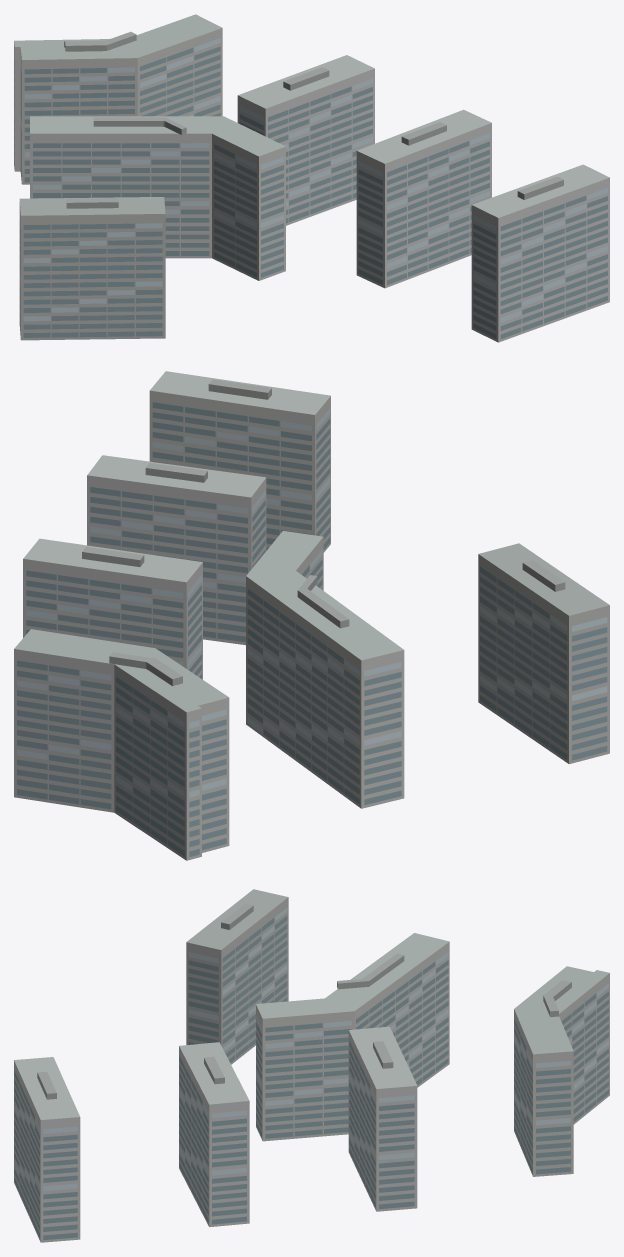
File: apt-a13187201.glb
3 renders of one model, top to bottom at view 1: azimuth 30°, elevation 25°; view 2: azimuth 150°, elevation 25°; view 3: azimuth 270°, elevation 25°, orthographic. The views are drawn at different scales.
Visible parts, largest first — view 1: apt-a13187201; view 2: apt-a13187201; view 3: apt-a13187201.
Boxes of the visible parts, left/top/right/bottom form: apt-a13187201: left=14, top=14, right=609, bottom=342; apt-a13187201: left=14, top=371, right=609, bottom=860; apt-a13187201: left=14, top=889, right=609, bottom=1242.
Size of the model in its own units: 166 by 43 by 181.
